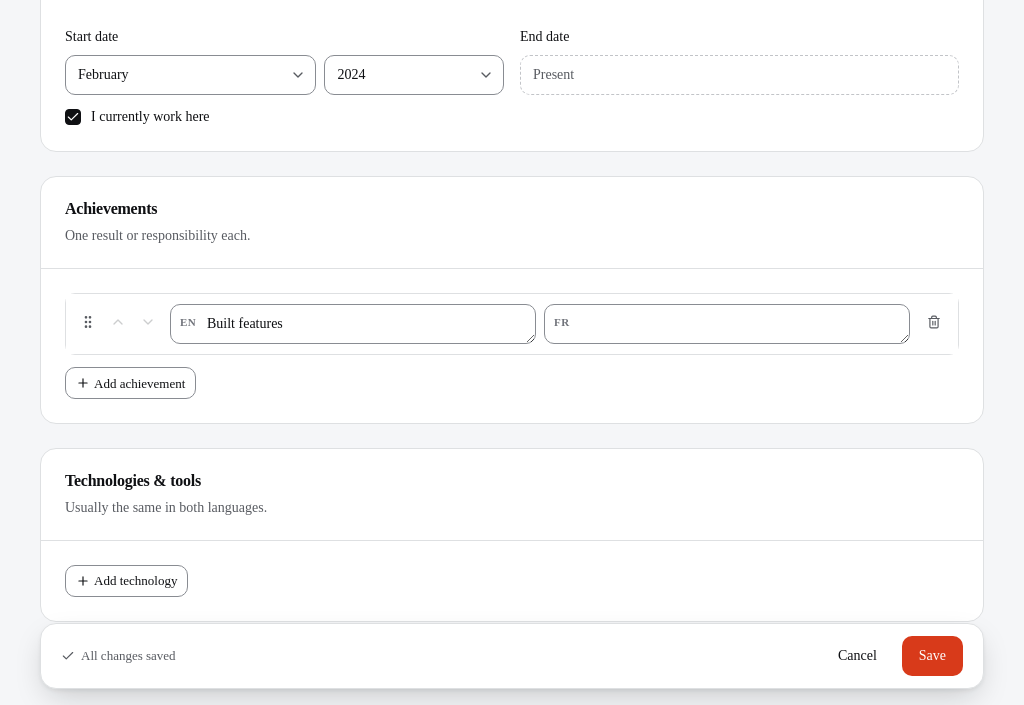
Scenario: ExperienceForm › saves edits to an existing experience and stays on the page
This screenshot has width=1024, height=705.
(page scrolled)
Click the button named "Remove: Achievements 1": (934, 322) [918,306,950,338]
(page scrolled)
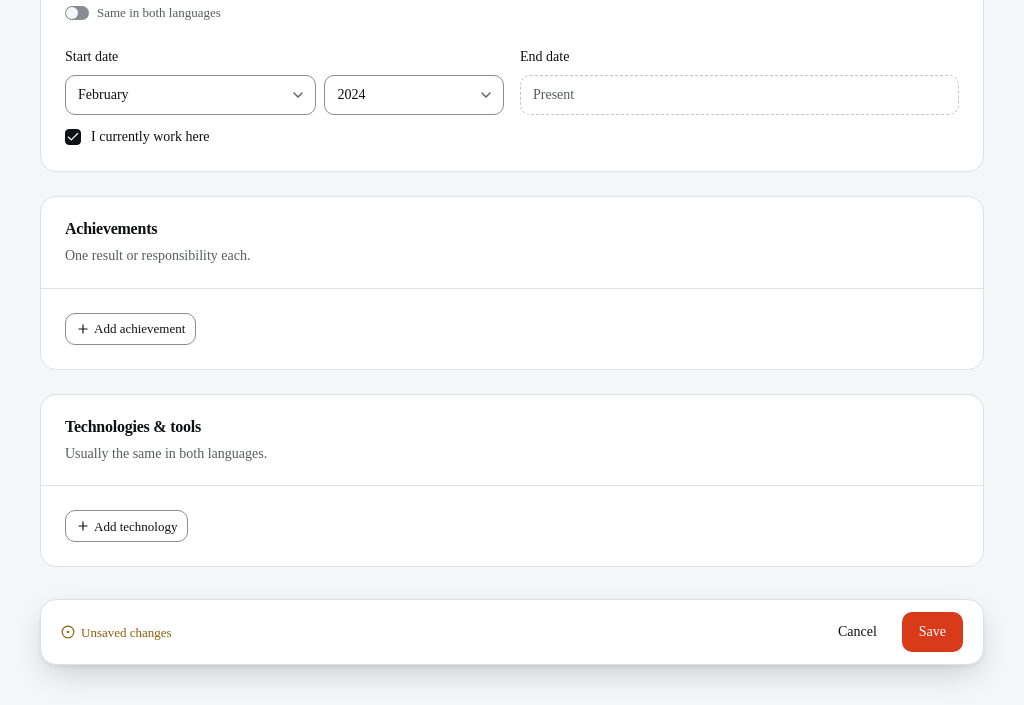
Expected: the message reads "Unsaved changes", [81,624,172,640]
Click the button "Save": (932, 632) [902,612,963,652]
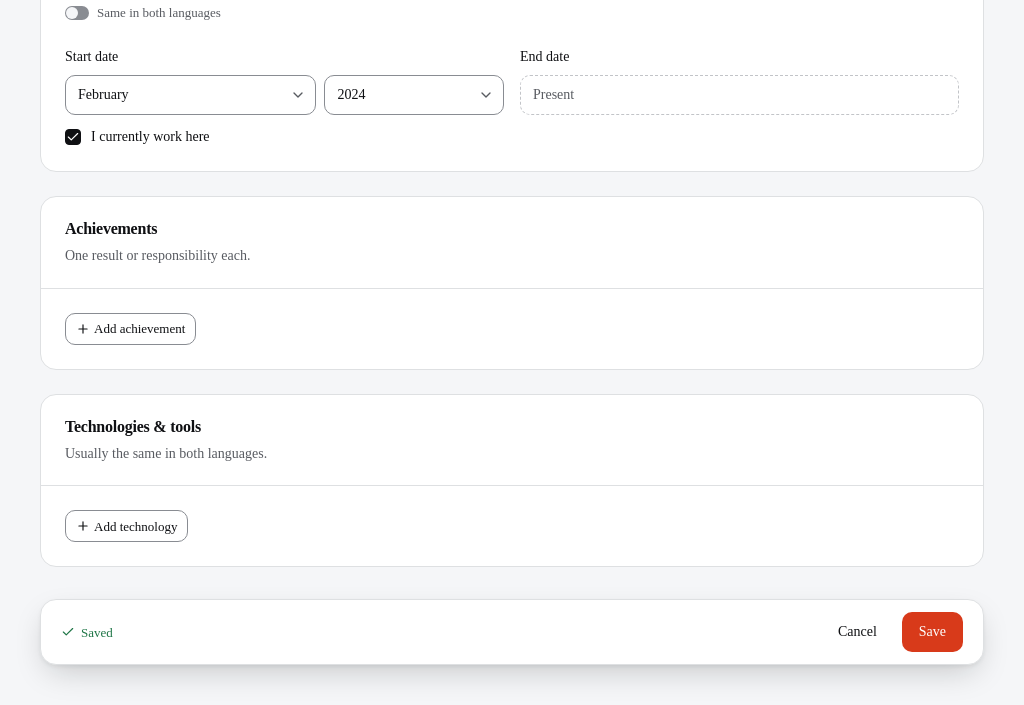
Expected: the message reads "Saved", [81,624,113,640]
